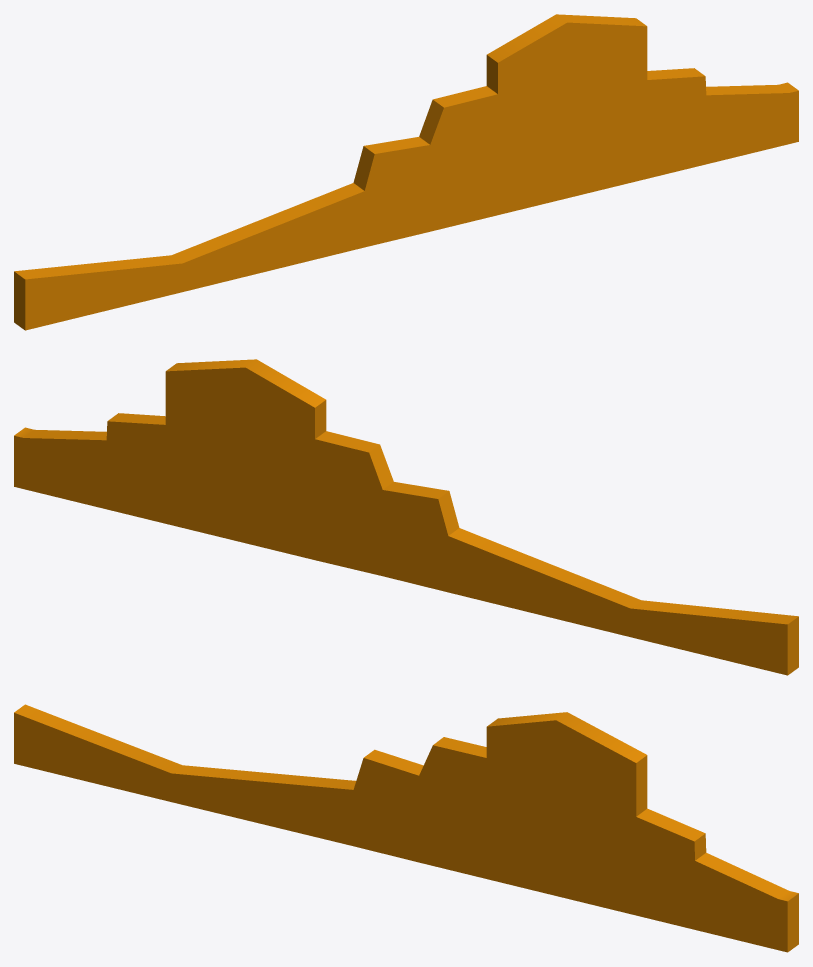
Rendered from Redone Land Module 7.fbx.
3 renders of one model, top to bottom at view 1: azimuth 30°, elevation 25°; view 2: azimuth 150°, elevation 25°; view 3: azimuth 330°, elevation 25°, orthographic.
Visible parts, largest first — view 1: Land_Module_7; view 2: Land_Module_7; view 3: Land_Module_7.
Boxes of the visible parts, box(x1,y1,x2,y2) form: Land_Module_7: box(14, 14, 798, 330); Land_Module_7: box(14, 359, 798, 675); Land_Module_7: box(14, 704, 798, 952).
Bounding box in the file's own units: 160 × 34.71 × 4.
